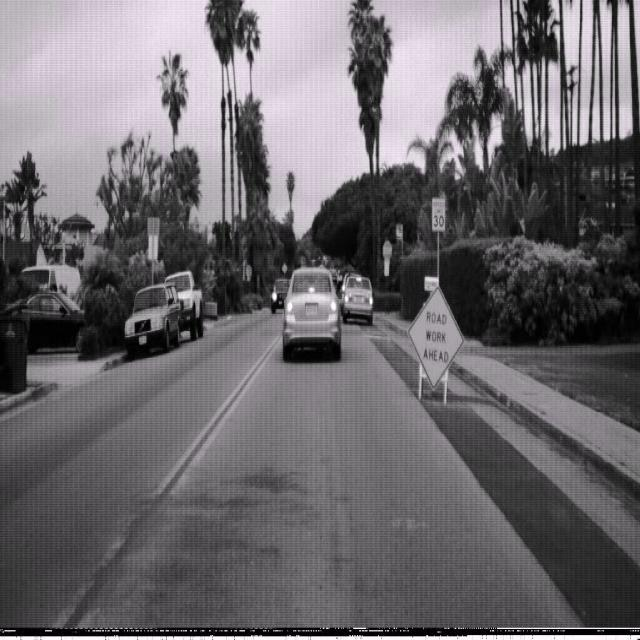speedLimit30: (430, 196, 446, 232)
